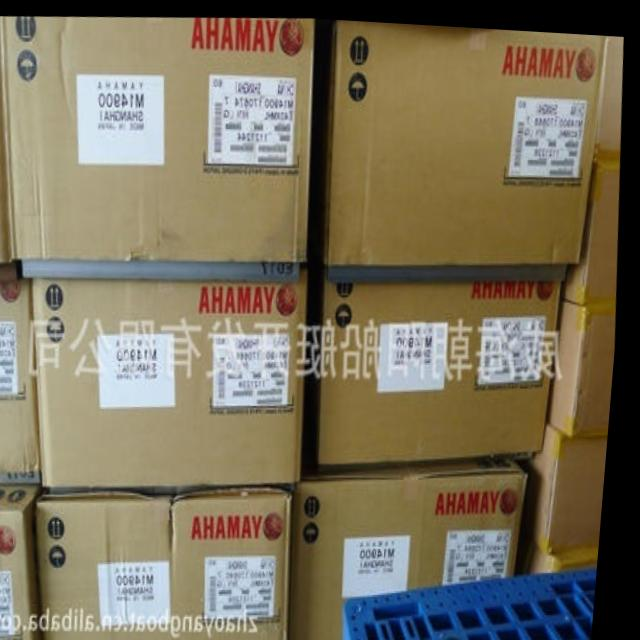box: (0, 18, 314, 260), (317, 18, 606, 260), (36, 267, 310, 488), (325, 273, 566, 461), (298, 452, 533, 640), (45, 481, 297, 640), (517, 416, 614, 548), (0, 275, 50, 482), (553, 289, 621, 431), (565, 150, 622, 298), (0, 482, 51, 640), (525, 516, 607, 569), (0, 46, 17, 263), (594, 28, 623, 153)
